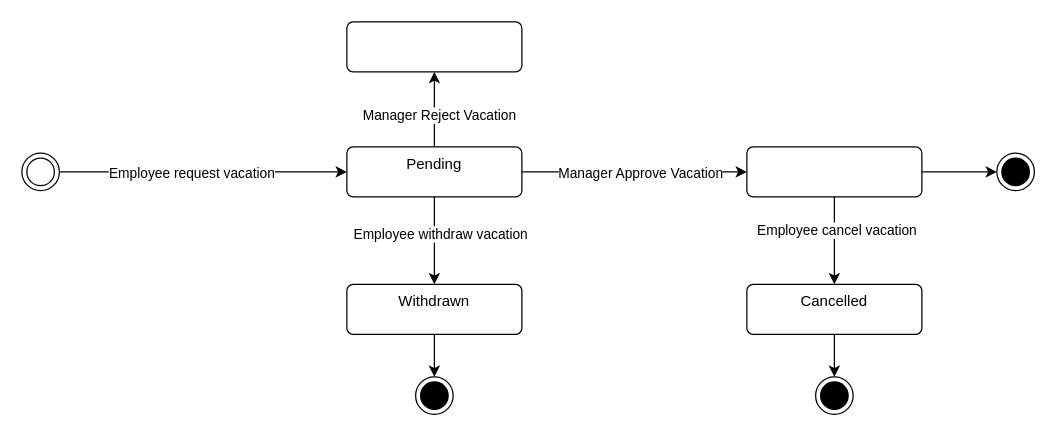
Some shapes in this 1056 by 436 pixel diagram are drawn without their labels. The centre of each missing label's shape, as x and y in pixels:
"Approved" goes at pixel 834 171.
"Rejected" goes at pixel 434 46.
